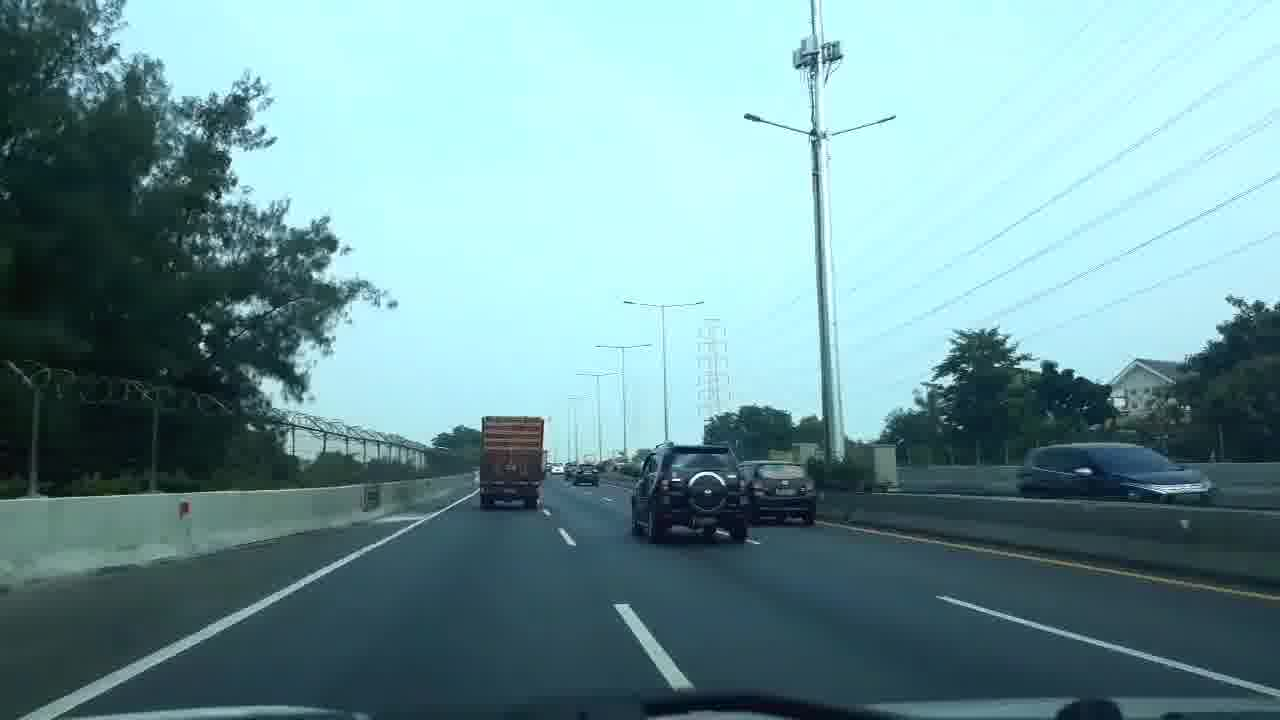plate_positive: (775, 489, 797, 496)
